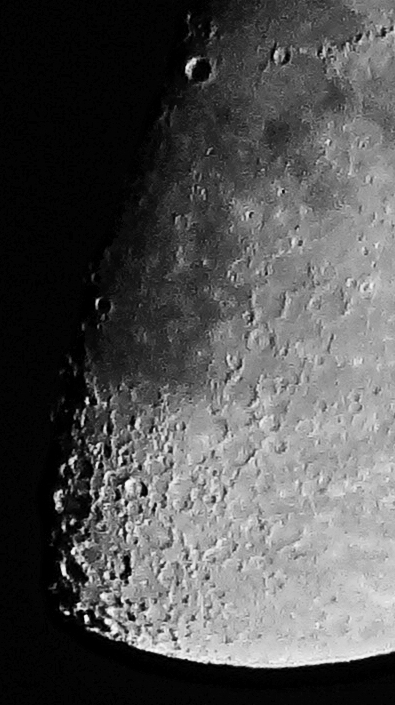crater: (164, 40, 221, 95), (302, 277, 355, 332), (252, 33, 295, 85), (85, 287, 118, 322), (168, 207, 201, 236), (233, 199, 262, 229), (350, 129, 378, 160), (352, 168, 383, 192), (269, 179, 298, 203), (315, 132, 342, 152), (287, 234, 310, 250)
